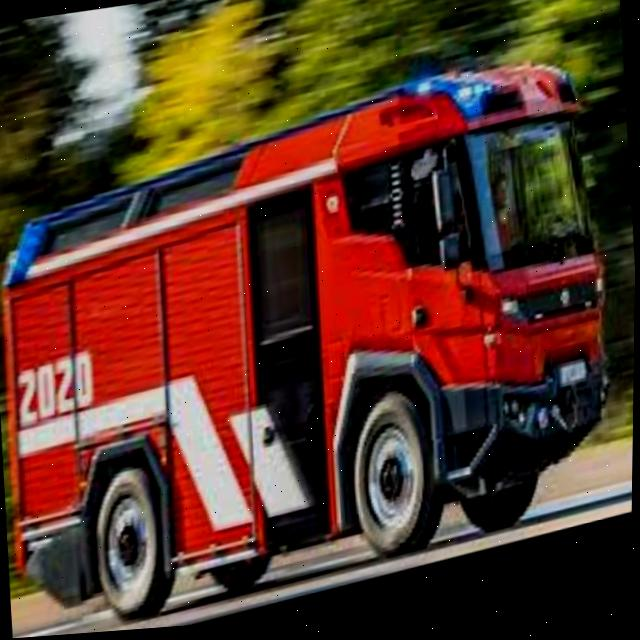emergency: (0, 50, 632, 638)
